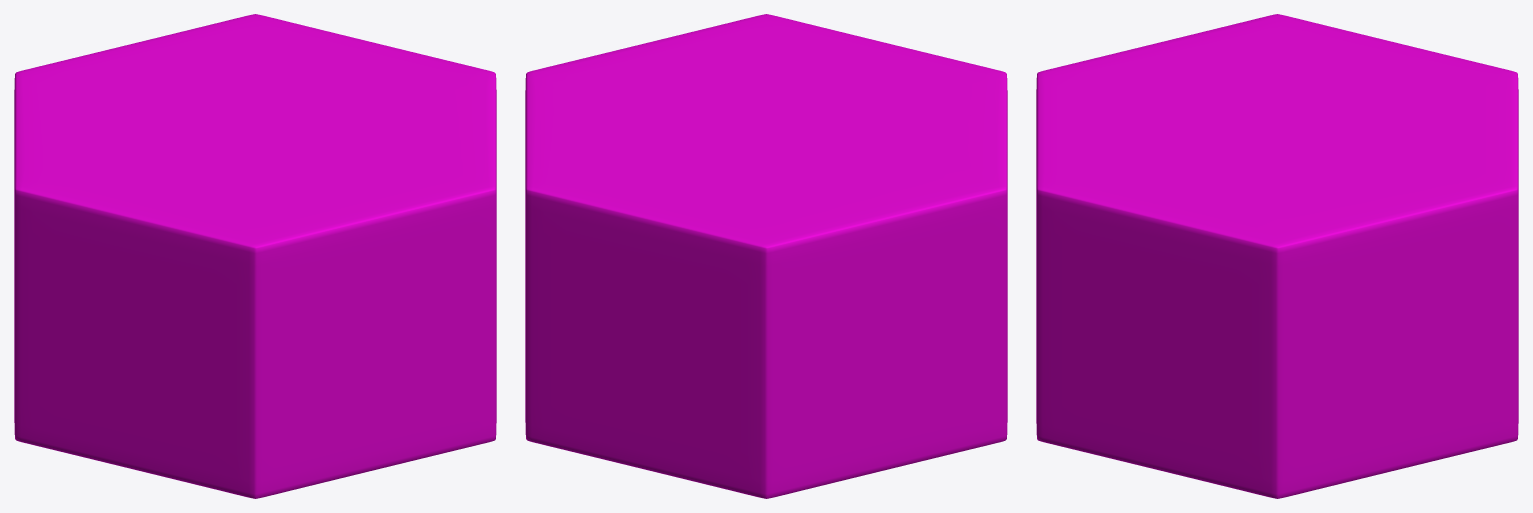
The model's file is PurpleHexagon.glb.
3 views of the same model, side by side, from view 1: azimuth 30°, elevation 25°; view 2: azimuth 150°, elevation 25°; view 3: azimuth 270°, elevation 25° (orthographic).
Visible parts, largest first — view 1: 20265_Hexagonal_prism_v1; view 2: 20265_Hexagonal_prism_v1; view 3: 20265_Hexagonal_prism_v1.
Boxes of the visible parts, <box> form: 20265_Hexagonal_prism_v1: <box>14,14,496,498</box>; 20265_Hexagonal_prism_v1: <box>525,14,1007,498</box>; 20265_Hexagonal_prism_v1: <box>1036,14,1518,498</box>.
Bounding box in the file's own units: 7.85 × 3.95 × 6.82.
